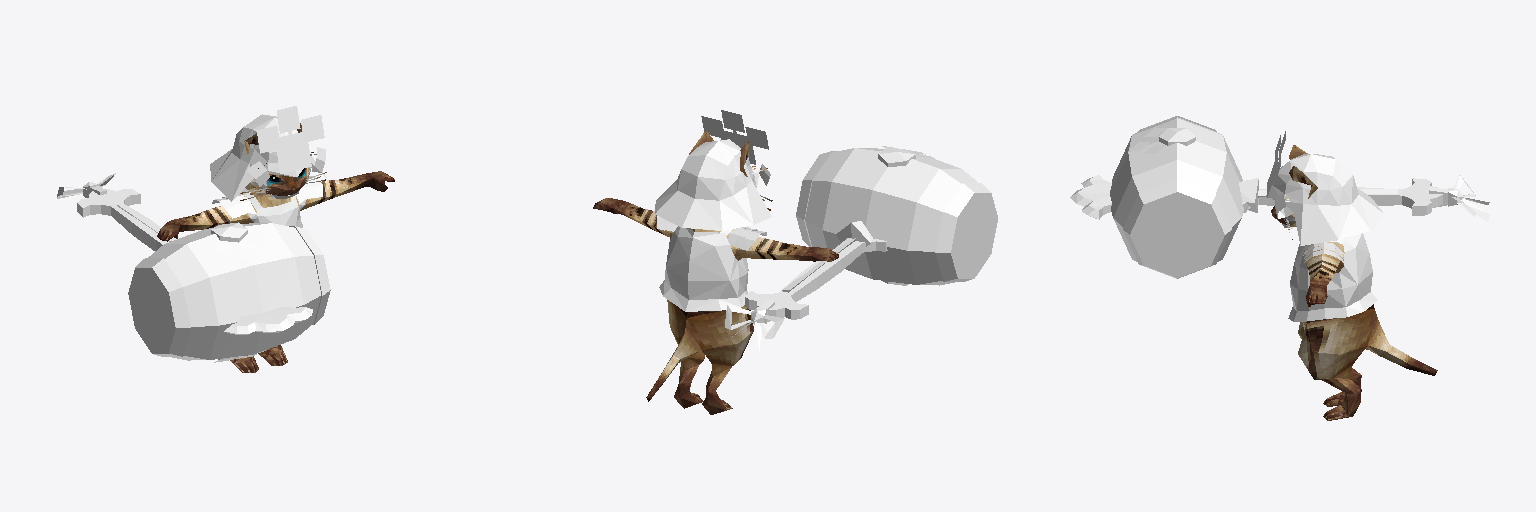
3 views of the same model, side by side, from view 1: azimuth 30°, elevation 25°; view 2: azimuth 150°, elevation 25°; view 3: azimuth 270°, elevation 25° (orthographic).
Visible parts, largest first — view 1: mesh09, mesh03, mesh00; view 2: mesh09, mesh03, mesh00, mesh06; view 3: mesh09, mesh03, mesh00, mesh06.
Boxes of the visible parts, <box> form: mesh09: <box>57,173,330,362</box>; mesh03: <box>210,106,326,227</box>; mesh00: <box>157,123,394,372</box>; mesh09: <box>725,146,997,351</box>; mesh03: <box>655,110,771,311</box>; mesh00: <box>593,131,838,414</box>; mesh06: <box>782,221,872,292</box>; mesh09: <box>1070,116,1489,278</box>; mesh03: <box>1265,131,1383,321</box>; mesh00: <box>1271,145,1437,420</box>; mesh06: <box>1239,178,1397,212</box>.
Size of the model in its own units: 124 by 105 by 145.
Materials: 3 (1 with a texture image).